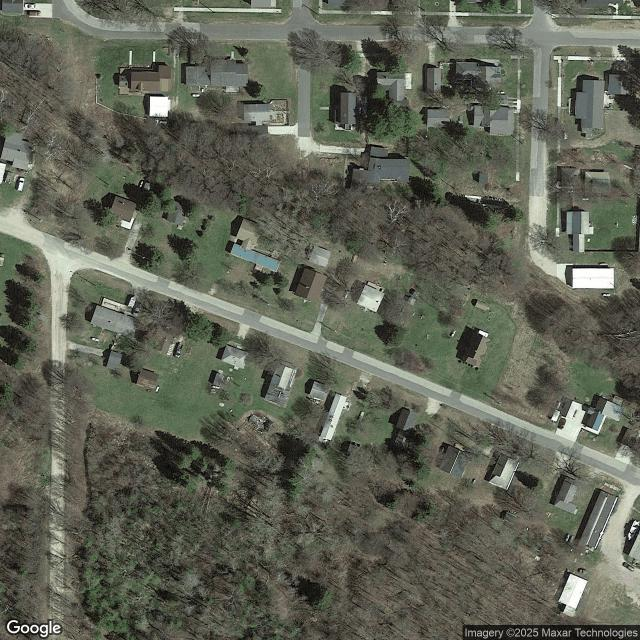Propane: (343, 289, 351, 299), (450, 329, 457, 338), (564, 534, 571, 542), (91, 337, 100, 343), (568, 535, 574, 544), (211, 385, 220, 390), (159, 120, 168, 124), (139, 181, 144, 188), (192, 94, 200, 97), (603, 294, 611, 297), (582, 198, 589, 201)
